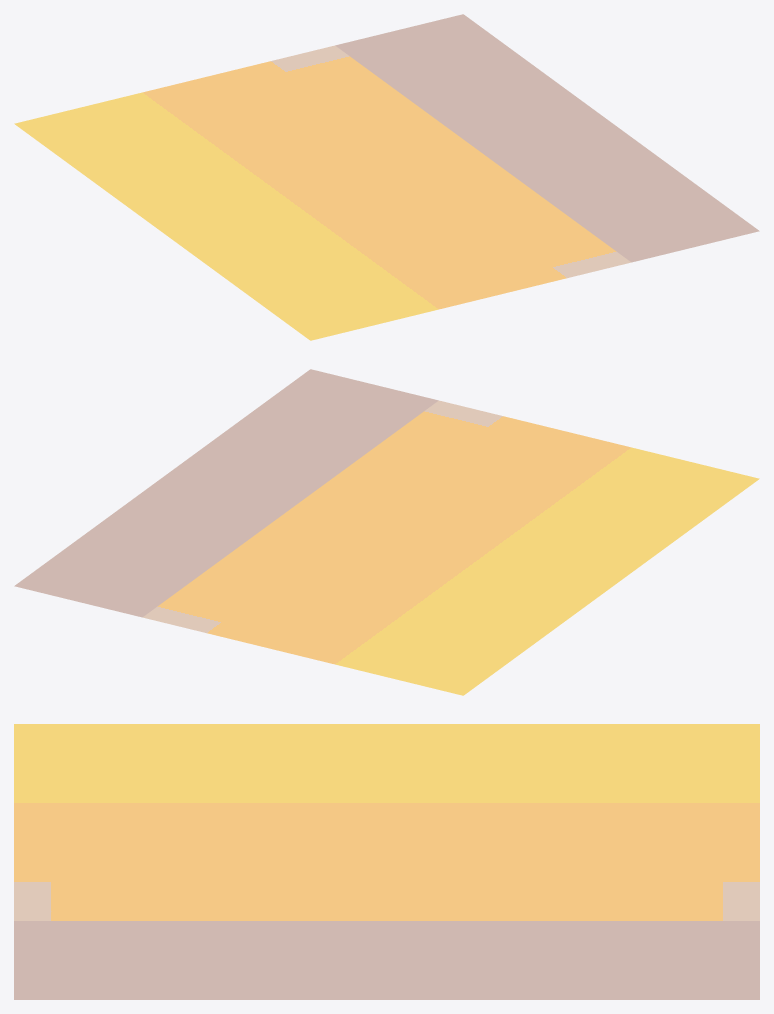
3 views of the same model, one above another, from view 1: azimuth 30°, elevation 25°; view 2: azimuth 150°, elevation 25°; view 3: azimuth 270°, elevation 25° (orthographic). The views are drawn at different scales.
Size of the model in its own units: 0.875 by 0 by 1.
Materials: 1 (1 with a texture image).
